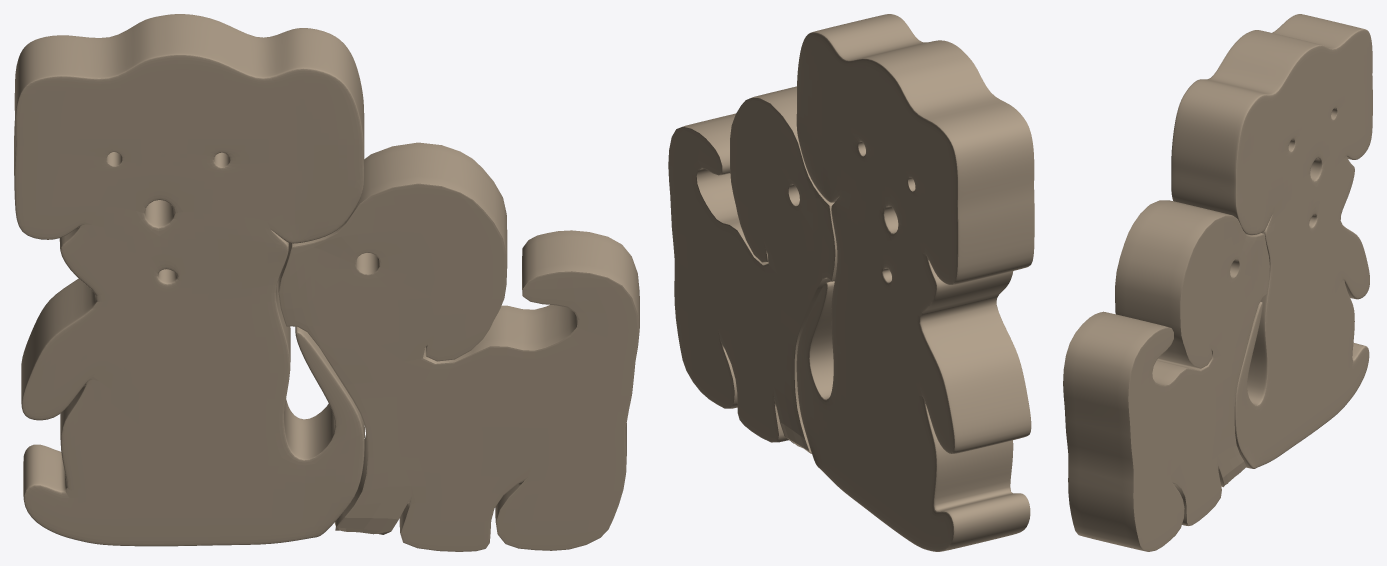
File: MOD_ART_ThreeRooms.fbx_Wooden_toys_dogs2_.fbx
The picture shows the model from 3 angles, left to right: view 1: azimuth 30°, elevation 25°; view 2: azimuth 150°, elevation 25°; view 3: azimuth 270°, elevation 25°; orthographic projection. The views are drawn at different scales.
Visible parts, largest first — view 1: Cube.048, Cube.049; view 2: Cube.048, Cube.049; view 3: Cube.048, Cube.049.
Boxes of the visible parts, left/top/right/bottom form: Cube.048: left=14, top=14, right=364, bottom=546; Cube.049: left=278, top=142, right=639, bottom=551; Cube.048: left=796, top=14, right=1034, bottom=551; Cube.049: left=668, top=86, right=837, bottom=453; Cube.048: left=1171, top=14, right=1372, bottom=468; Cube.049: left=1063, top=200, right=1269, bottom=551.
Size of the model in its own units: 19.76 by 18.47 by 13.26.
